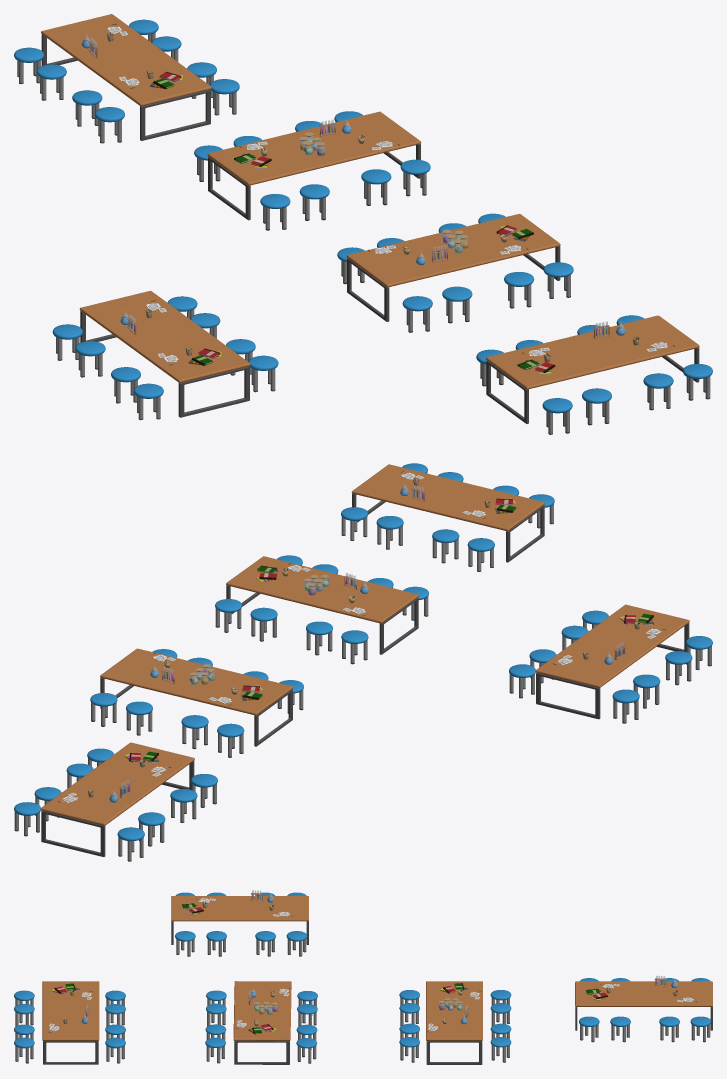
The model's file is d-roombomp-t-hsab-labor.glb.
The picture shows the model from 3 angles, top to bottom: view 1: azimuth 30°, elevation 25°; view 2: azimuth 150°, elevation 25°; view 3: azimuth 270°, elevation 25°; orthographic projection. The views are drawn at different scales.
Parts seen in each view (by area): view 1: assets-dcomp.016, assets-dcomp.015, x8Table.012, assets-dcomp.017, x8Table.013; view 2: assets-dcomp.015, assets-dcomp.016, x8Table.013, assets-dcomp.017, x8Table.012; view 3: assets-dcomp.017, x8Table.013, x8Table.012, assets-dcomp.016, assets-dcomp.015.
Part boxes in pixels (<box>): assets-dcomp.016: <box>52,290,278,420</box>; assets-dcomp.015: <box>14,14,239,143</box>; x8Table.012: <box>194,111,430,230</box>; assets-dcomp.017: <box>476,315,712,434</box>; x8Table.013: <box>337,213,573,332</box>; assets-dcomp.015: <box>14,742,217,861</box>; assets-dcomp.016: <box>509,604,712,723</box>; x8Table.013: <box>215,555,428,664</box>; assets-dcomp.017: <box>341,463,554,571</box>; x8Table.012: <box>90,648,303,757</box>; assets-dcomp.017: <box>14,981,125,1064</box>; x8Table.013: <box>205,981,317,1064</box>; x8Table.012: <box>399,981,511,1064</box>; assets-dcomp.016: <box>171,890,308,956</box>; assets-dcomp.015: <box>575,976,712,1042</box>.
Bounding box in the file's own units: 12.85 × 1.39 × 24.5.
4 materials, 3 textured.
